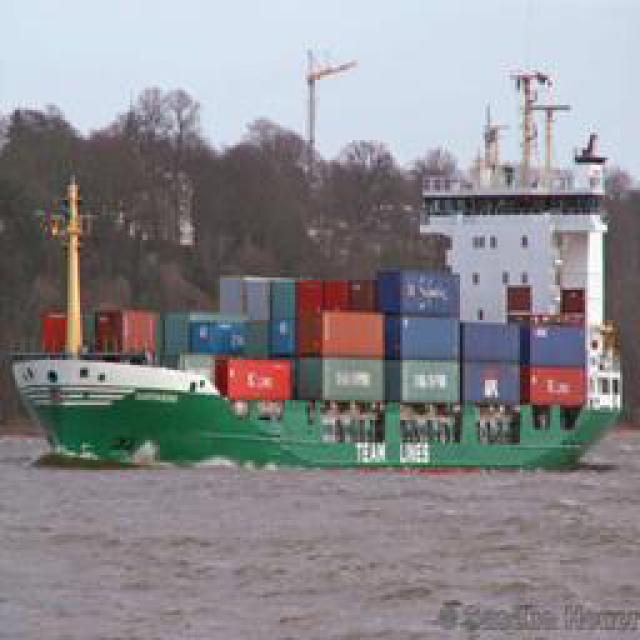Ship: (17, 107, 630, 491)
